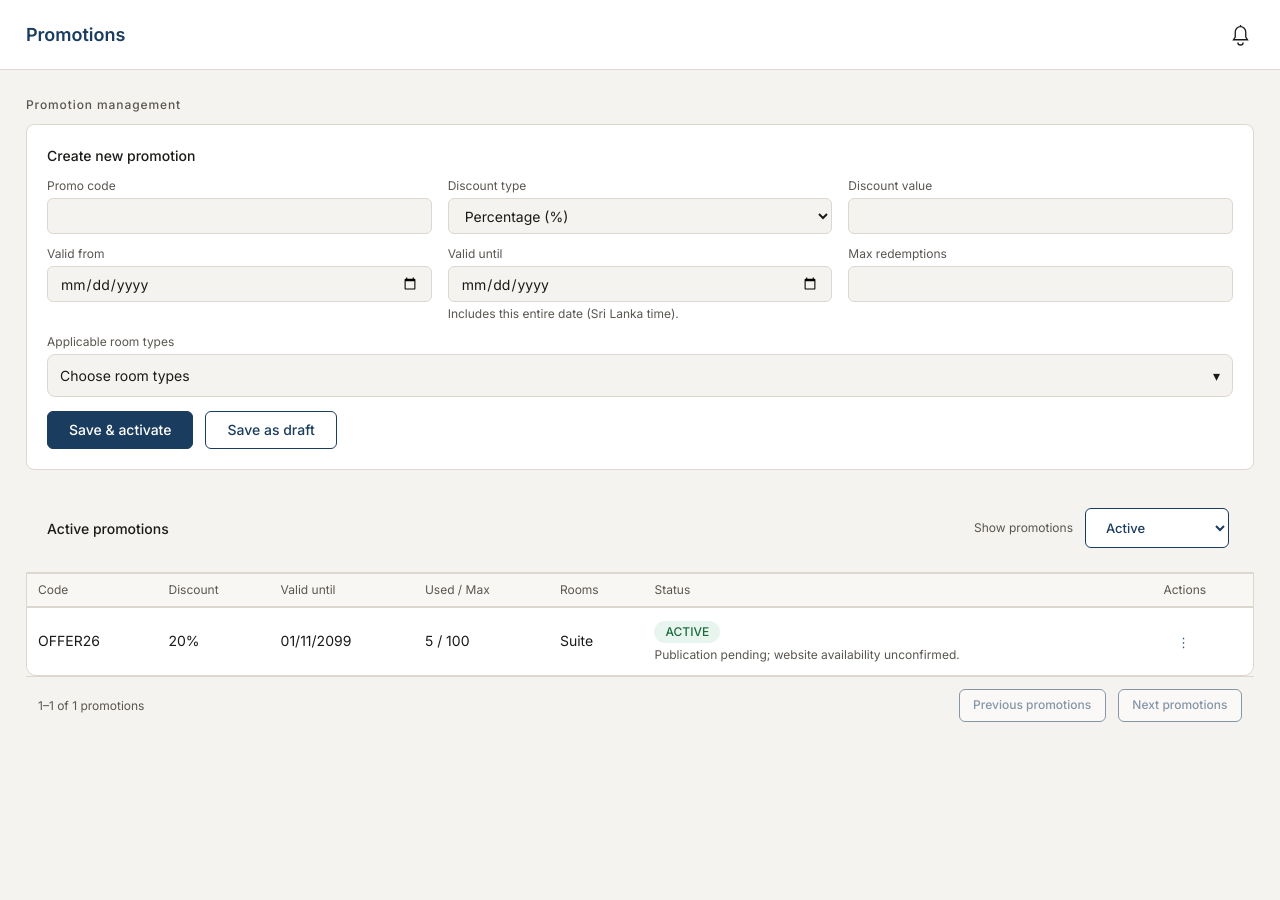
Scenario: DDP-020 promotion management › TC-MAD-020-AC1: Activate sends the version and confirms destructive changes
Click the button named "Actions for OFFER26" at {"x": 1184, "y": 642}, box [1164,636,1204,649]
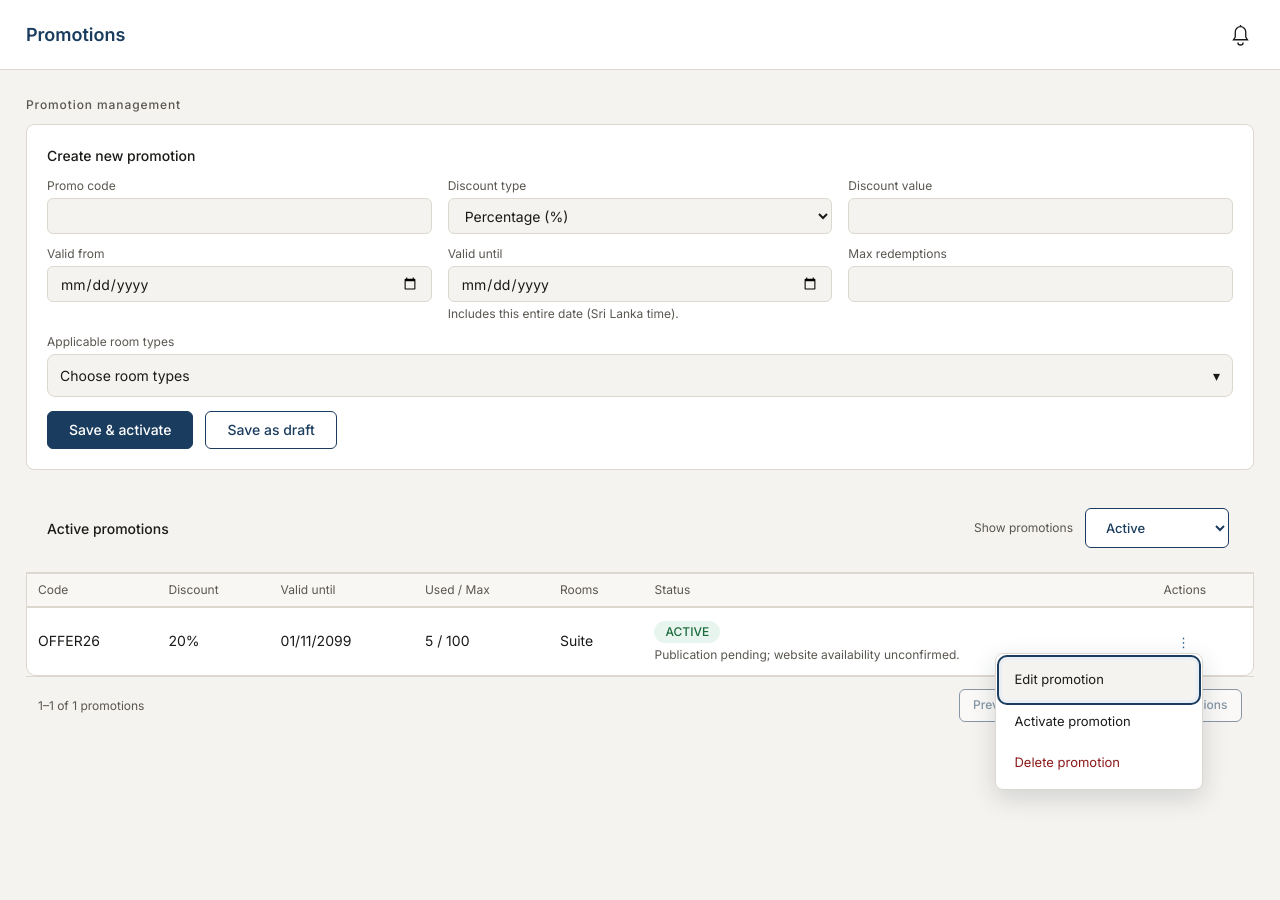
Click the button "Activate promotion" at {"x": 1100, "y": 721}, box [1002,702,1196,741]
(page scrolled)
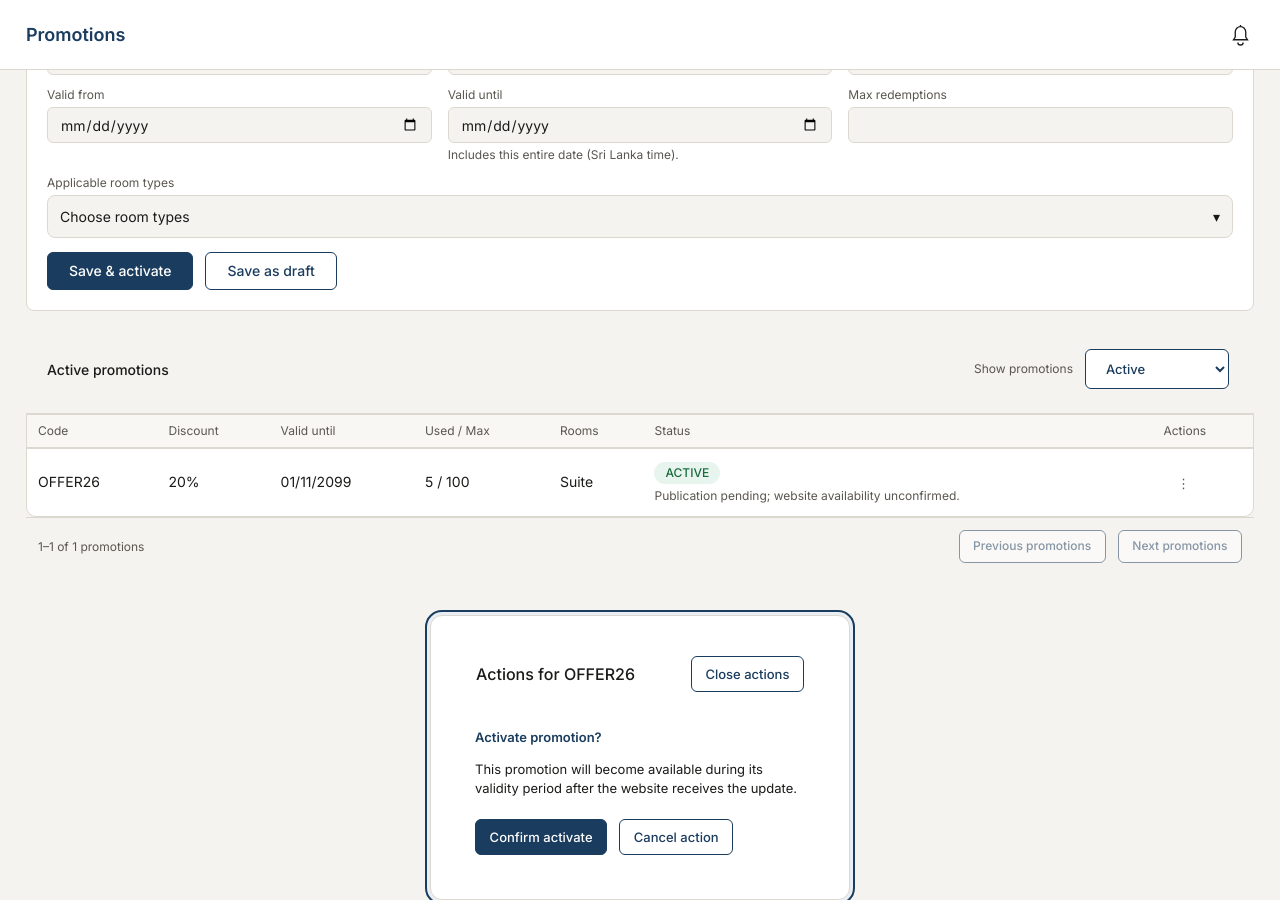
Click the button "Confirm activate" at {"x": 541, "y": 837}, box [475,819,607,855]
(page scrolled)
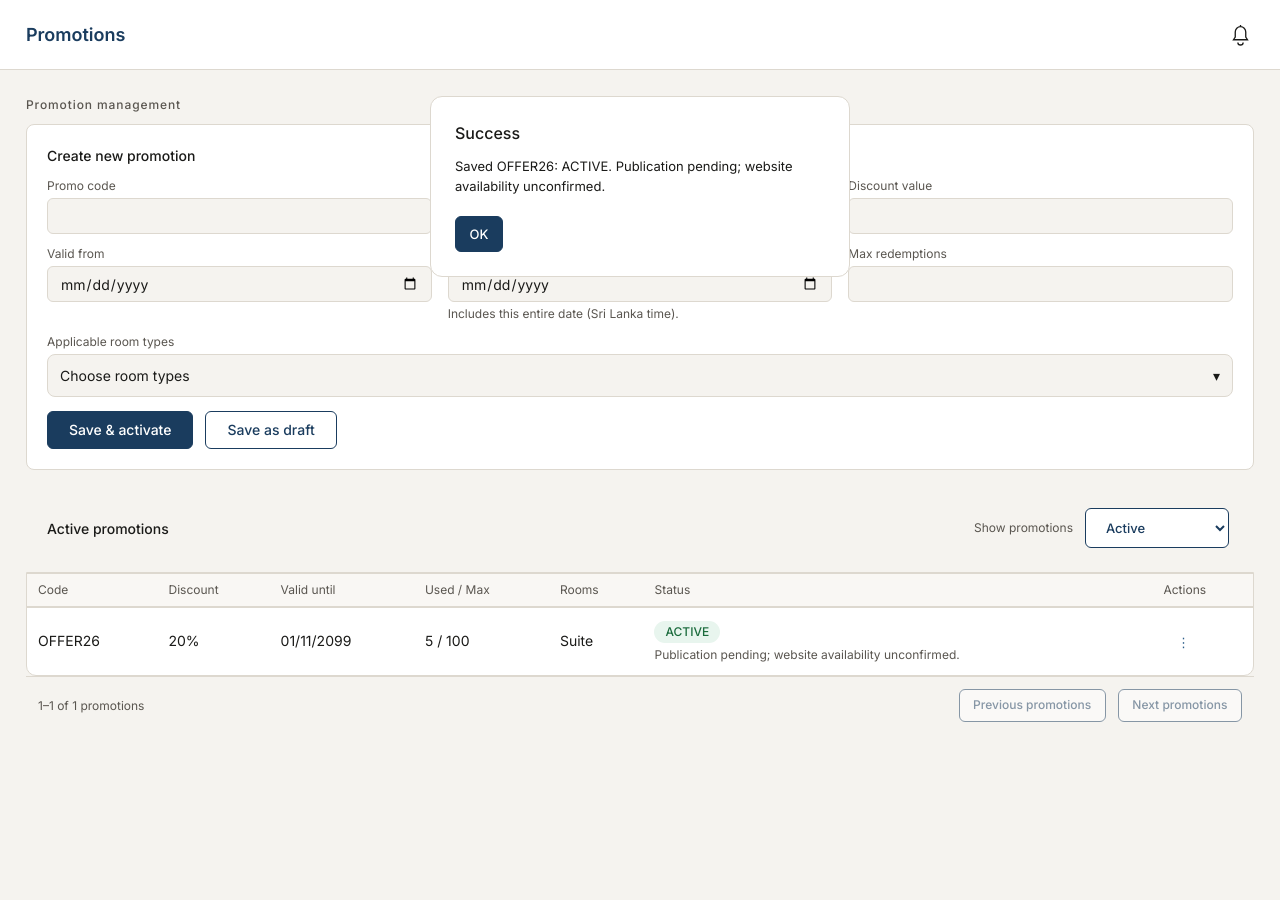
Expected: the text "Saved OFFER26: ACTIVE. Publication pending; website availability unconfirmed." is shown, [455,157,825,196]
Expected: the heading "Actions for OFFER26" is gone
